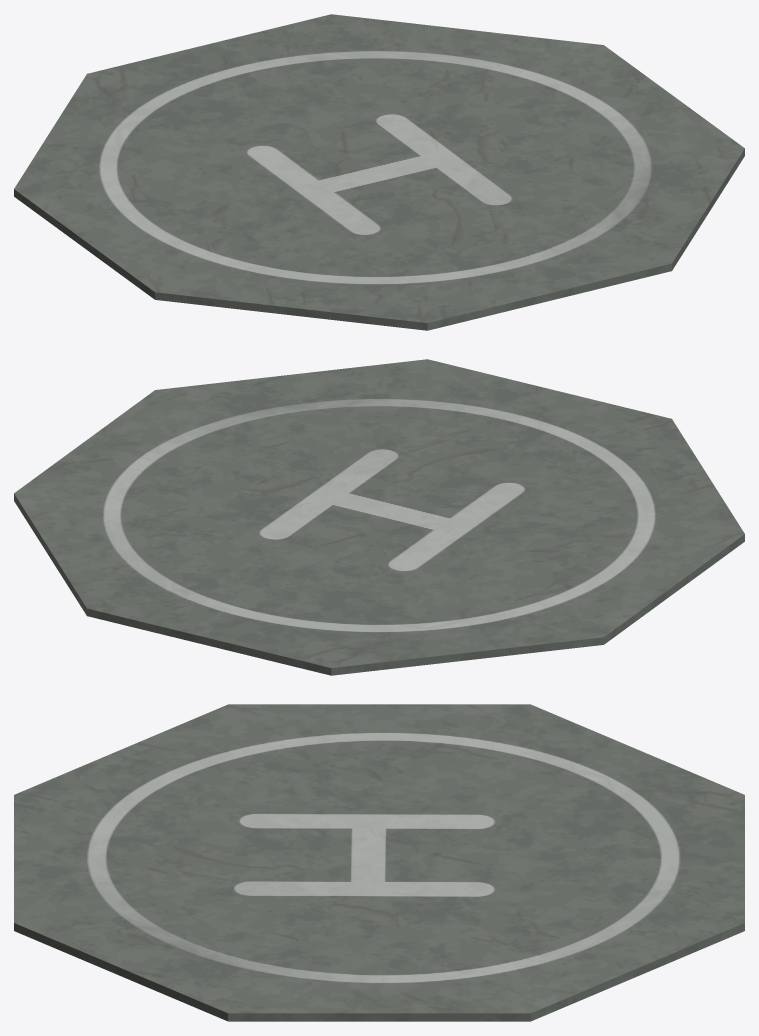
File: Helipad01.FBX
The picture shows the model from 3 angles, top to bottom: view 1: azimuth 30°, elevation 25°; view 2: azimuth 150°, elevation 25°; view 3: azimuth 270°, elevation 25°; orthographic projection. The views are drawn at different scales.
Visible parts, largest first — view 1: Helipad01; view 2: Helipad01; view 3: Helipad01.
Part boxes in pixels (x1,y1,x2,y2): Helipad01: (14,14,744,330); Helipad01: (14,359,744,675); Helipad01: (14,704,744,1021).
Size of what is drawn, in the model's own units: 20.33 by 0.25 by 20.33.
